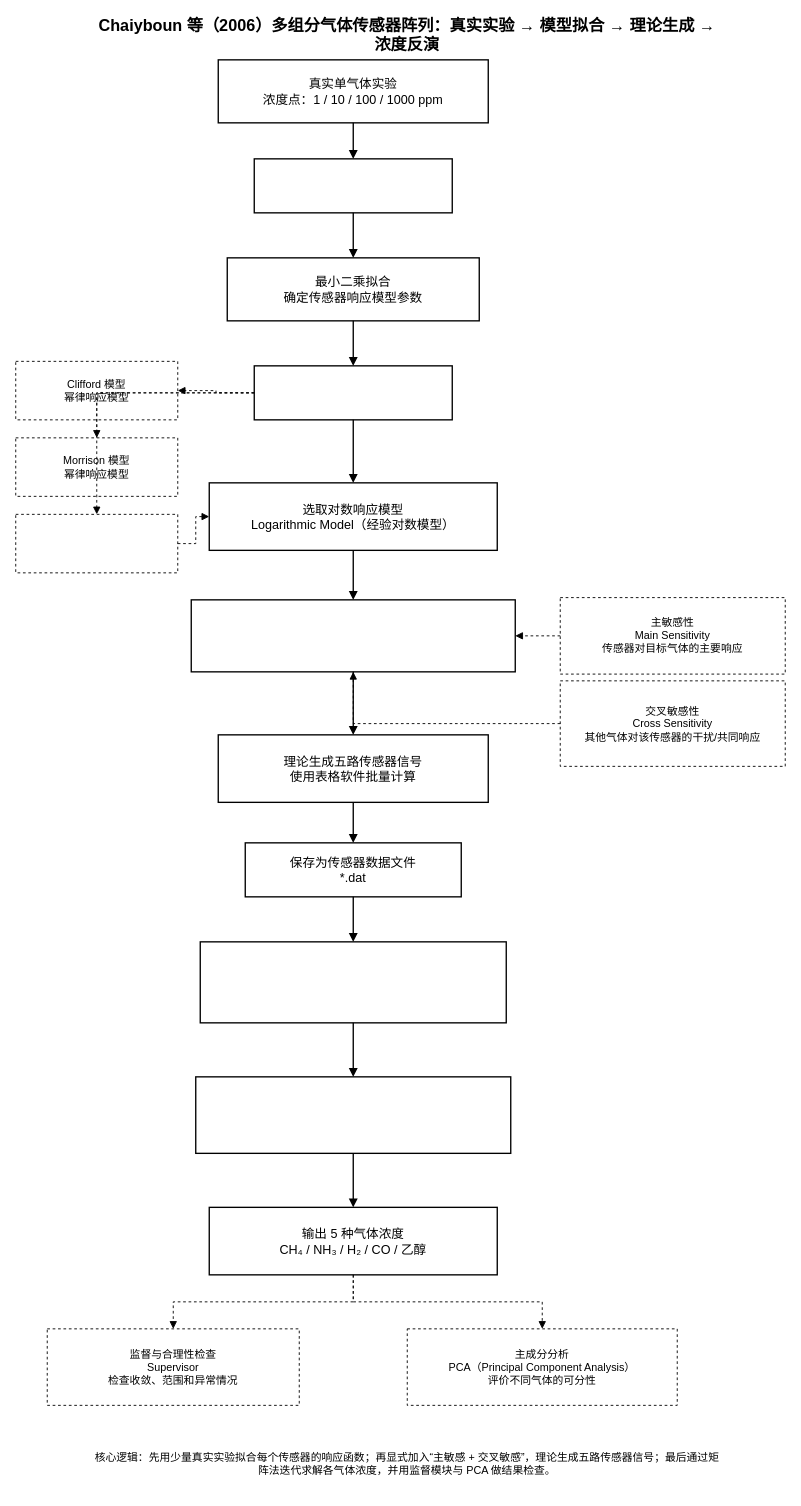
The diagram is 801 pixels wide and 1506 high, and some of its shapes have lost their labels. Here are the shapes that lost their labels. From the top down, the centre of each, then its label:
At (x=353, y=185): "真实混合气体实验".
At (x=353, y=392): "比较候选响应模型".
At (x=96, y=543): "对数模型 Logarithmic Model".
At (x=353, y=635): "建立 5 个传感器前向模型 Forward Model（由气体状态预测传感器响应）".
At (x=353, y=982): "IGM 评估器 Intelligent Gas Multi-Sensor Evaluator （智能多气体传感器评估模块）".
At (x=353, y=1115): "矩阵法迭代反演 Matrix Method（考虑交叉敏感的迭代求解）".
